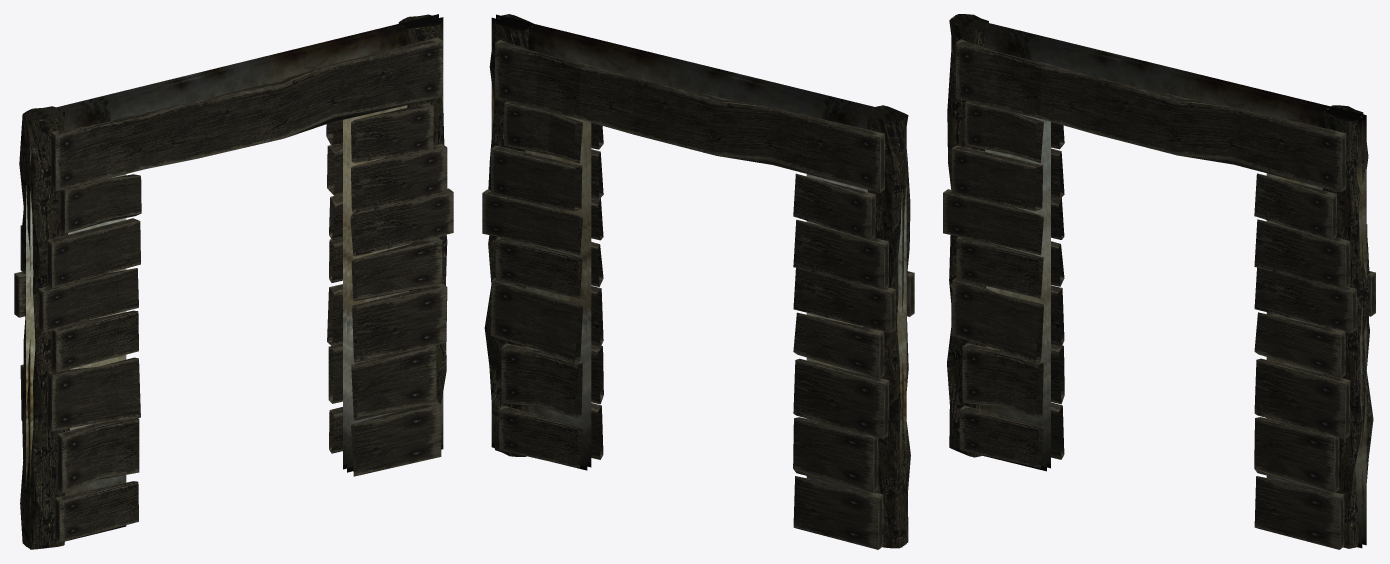
Rendered from default02_doorway.DAE.
The picture shows the model from 3 angles, left to right: view 1: azimuth 30°, elevation 25°; view 2: azimuth 150°, elevation 25°; view 3: azimuth 330°, elevation 25°; orthographic projection.
Visible parts, largest first — view 1: polySurface27, Object001, Object002; view 2: polySurface27, Object001, Object002; view 3: polySurface27, Object001, Object002.
Part boxes in pixels (box(x1,y1,x2,y2)): polySurface27: box(14, 37, 453, 542); Object001: box(26, 14, 443, 549); Object002: box(19, 14, 447, 549); polySurface27: box(482, 40, 914, 549); Object001: box(491, 14, 906, 547); Object002: box(484, 14, 910, 548); polySurface27: box(943, 39, 1375, 549); Object001: box(951, 15, 1366, 548); Object002: box(947, 14, 1373, 548).
Size of the model in its own units: 160 by 21.66 by 157.
